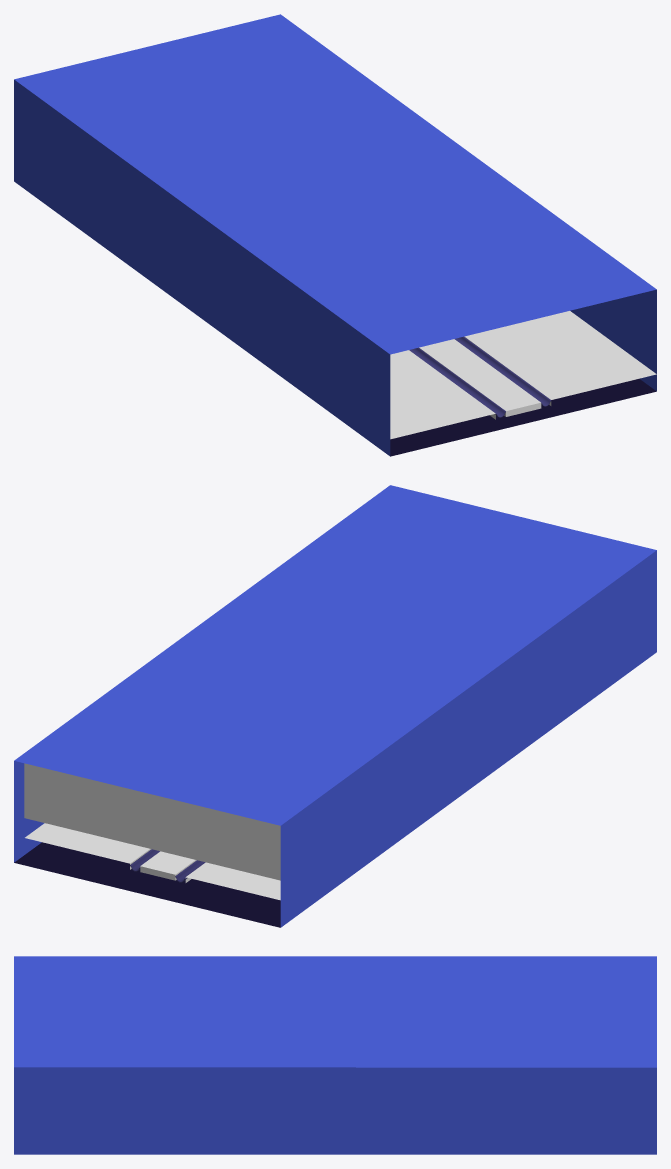
Rendered from uploads_files_3970898_SM_Room.fbx.
3 renders of one model, top to bottom at view 1: azimuth 30°, elevation 25°; view 2: azimuth 150°, elevation 25°; view 3: azimuth 270°, elevation 25°, orthographic. The views are drawn at different scales.
Parts seen in each view (by area): view 1: Plane, Plane.003, Plane.004, Plane.002, Plane.001; view 2: Plane, Plane.003, Plane.004, Plane.002; view 3: Plane.
Part boxes in pixels (left/top/right/bottom): Plane: left=14, top=14, right=656, bottom=456; Plane.003: left=464, top=311, right=656, bottom=405; Plane.004: left=390, top=350, right=495, bottom=439; Plane.002: left=419, top=339, right=541, bottom=416; Plane.001: left=409, top=336, right=551, bottom=417; Plane: left=14, top=485, right=656, bottom=927; Plane.003: left=25, top=823, right=151, bottom=869; Plane.004: left=185, top=862, right=280, bottom=900; Plane.002: left=140, top=851, right=196, bottom=880; Plane: left=14, top=956, right=656, bottom=1154.
Size of the model in its own units: 758 by 278 by 1852.
